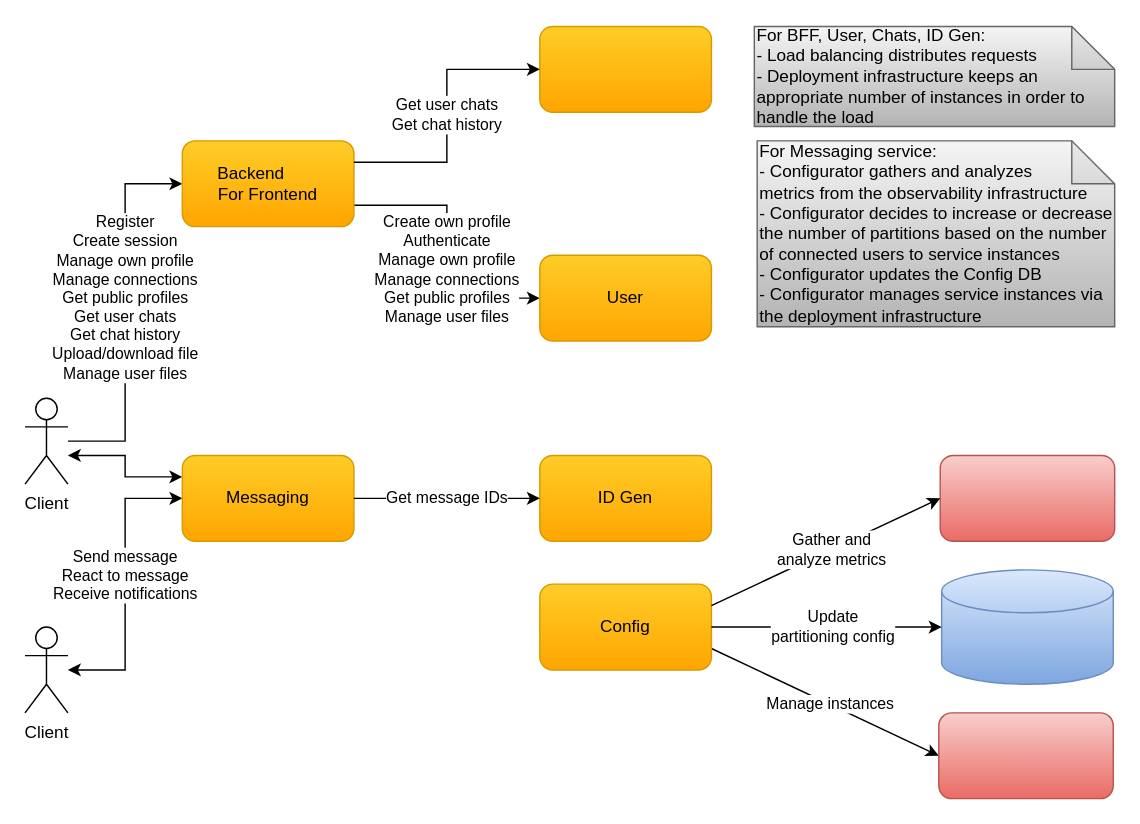
Image size: 1140x824. Some labels were removed from this diagram. Each missing label, with the centre of its shape:
"Chats" goes at point (624, 68).
"Config DB" goes at point (1026, 626).
"Deployment infrastructure" goes at point (1025, 755).
"Observability infrastructure" goes at point (1027, 497).
